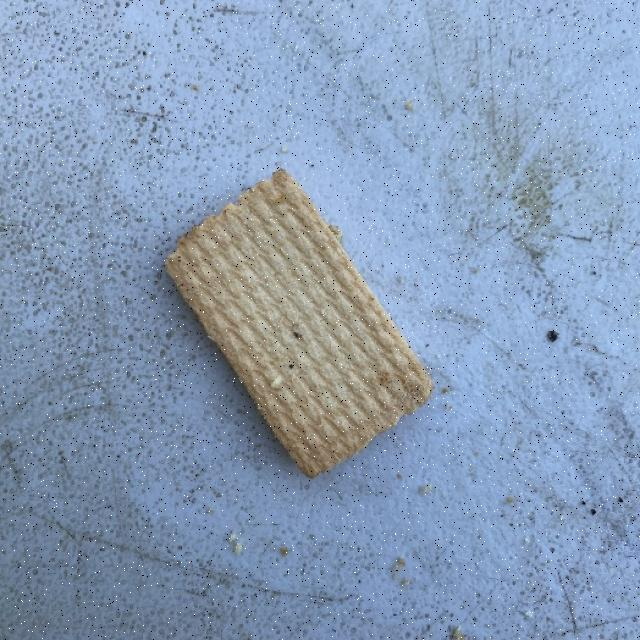organik: (161, 173, 435, 485)
